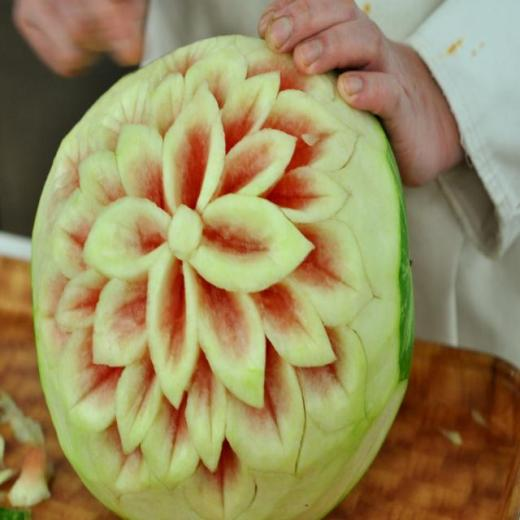Cherry: (32, 34, 415, 520)
